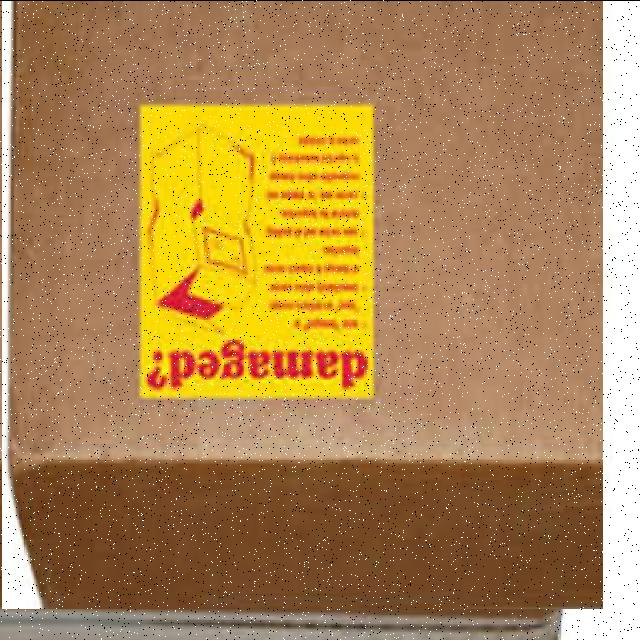normal: (2, 0, 603, 608)
